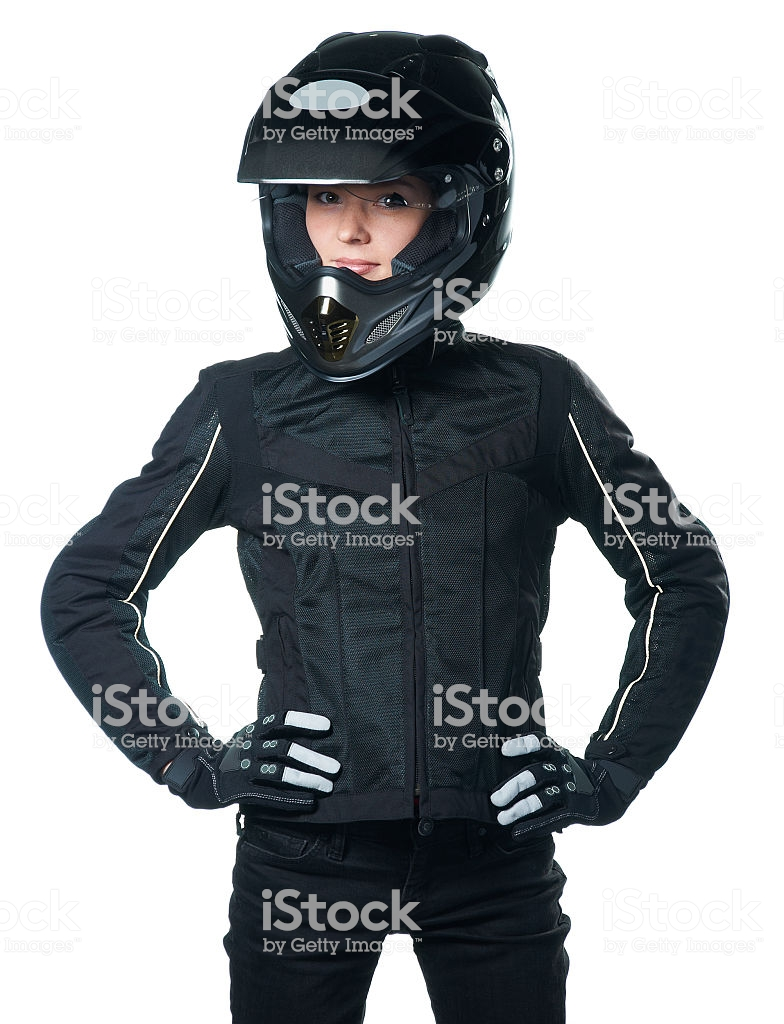helmet: (237, 37, 531, 379)
